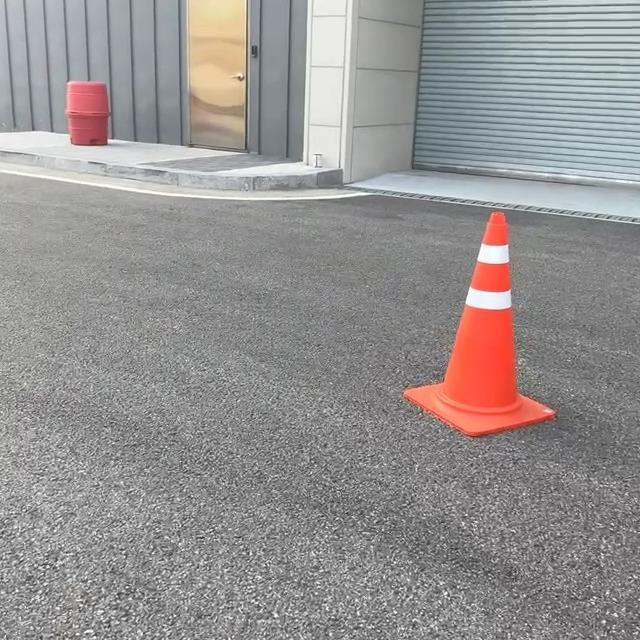fallen_object: (357, 166, 568, 419)
